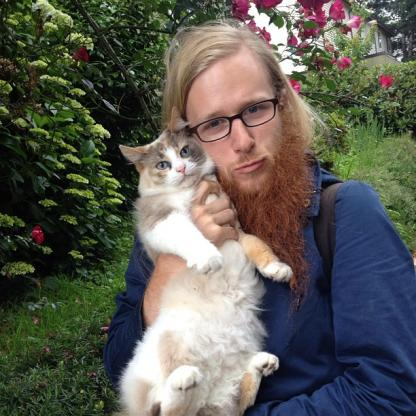Target: (109, 113, 290, 416)
